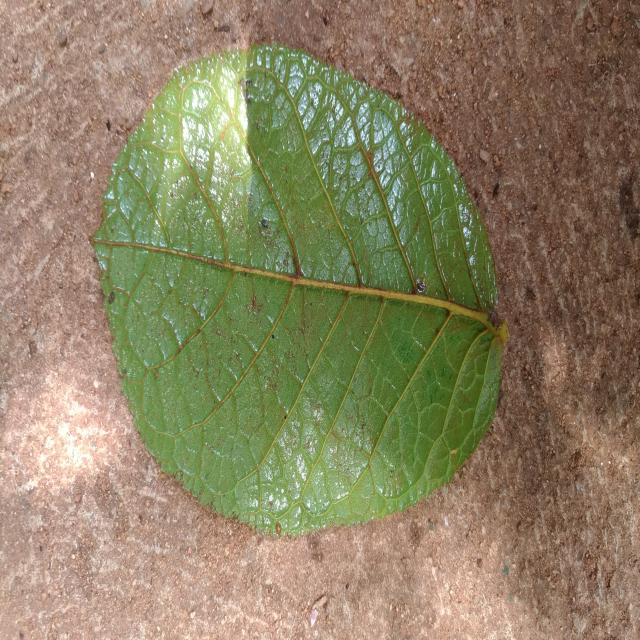padri: (94, 47, 509, 536)
